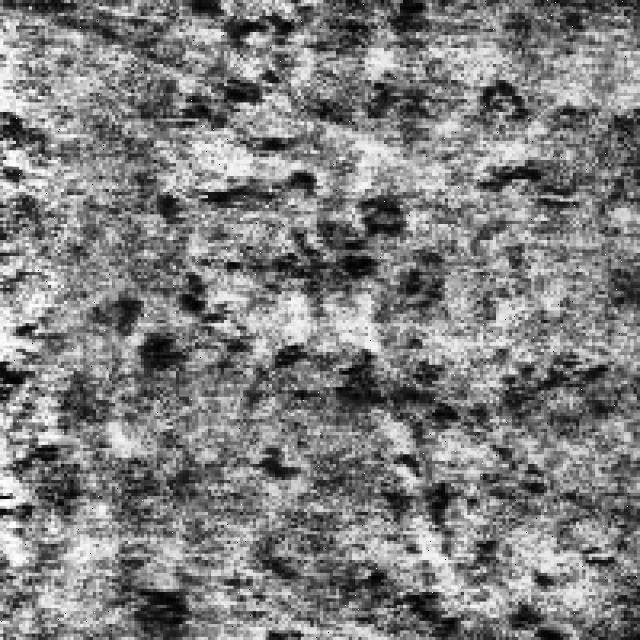Crazing: (185, 186, 618, 636)
